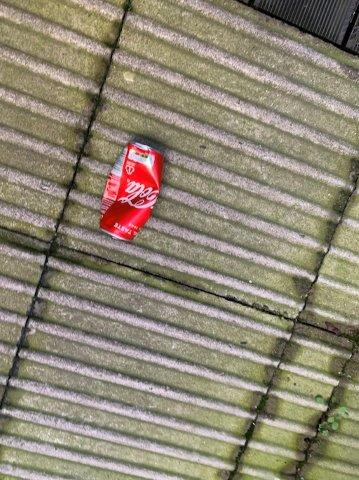kaleng: (101, 143, 163, 238)
